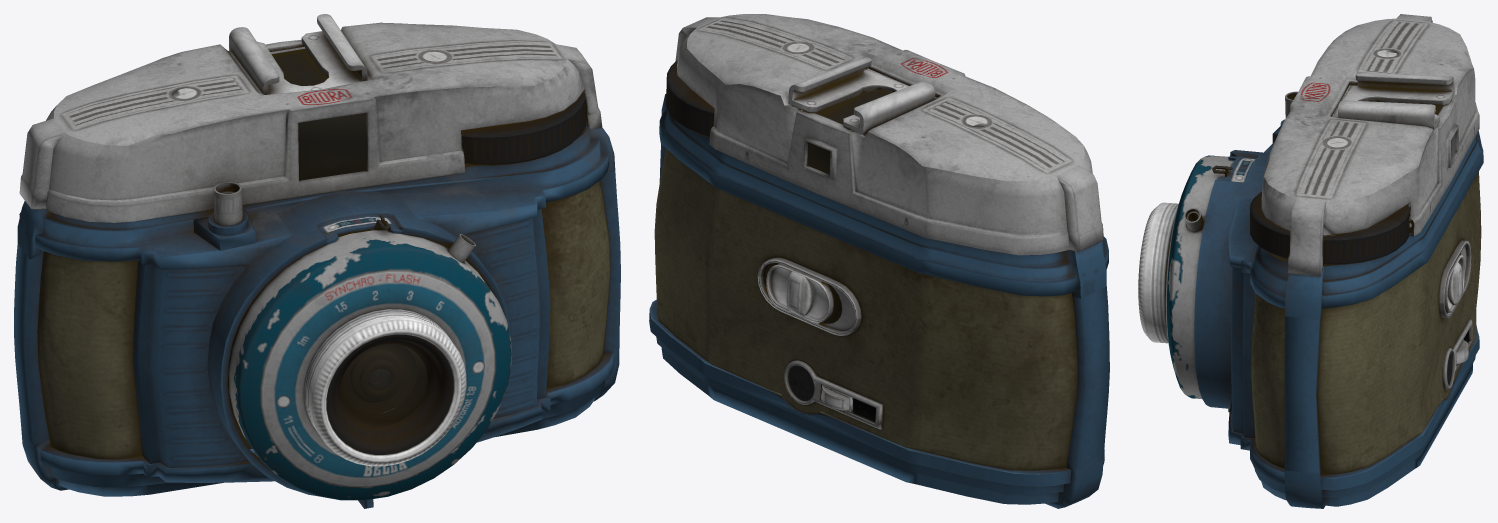
Rendered from camera2.glb.
The picture shows the model from 3 angles, left to right: view 1: azimuth 30°, elevation 25°; view 2: azimuth 150°, elevation 25°; view 3: azimuth 270°, elevation 25°; orthographic projection. The views are drawn at different scales.
Visible parts, largest first — view 1: Low_Midden_low, Low_Top_low, Low_Lens_4_low, Low_Midden_2_low, Low_Lens_2_low, Low_Lens_3_low, Low_Lens_1_low, Low_Cube_low2, Low_Detail_Top_low, Low_Wheel_low, pCube1, Low_Detail_3_low; view 2: Low_Midden_2_low, Low_Top_low, Low_Midden_low, Low_Detail_Top_low, Low_Detail_4_low, Low_Detail_7_low, Low_Detail_8_low, Low_Wheel_low, Low_Cube_low2, Low_Detail_5_low; view 3: Low_Midden_low, Low_Top_low, Low_Midden_2_low, Low_Lens_4_low, Low_Detail_Top_low, Low_Wheel_low, Low_Lens_3_low, Low_Detail_8_low, Low_Detail_4_low, Low_Detail_7_low.
Part boxes in pixels (<box>): Low_Midden_low: <box>14,125,620,508</box>; Low_Top_low: <box>19,22,602,222</box>; Low_Lens_4_low: <box>227,230,511,500</box>; Low_Midden_2_low: <box>37,181,610,459</box>; Low_Lens_2_low: <box>326,334,453,454</box>; Low_Lens_3_low: <box>304,309,466,466</box>; Low_Lens_1_low: <box>339,344,427,426</box>; Low_Cube_low2: <box>271,48,367,180</box>; Low_Detail_Top_low: <box>229,14,367,94</box>; Low_Wheel_low: <box>461,91,586,165</box>; pCube1: <box>298,113,367,180</box>; Low_Detail_3_low: <box>213,181,242,225</box>; Low_Midden_2_low: <box>654,148,1077,470</box>; Low_Top_low: <box>675,14,1103,255</box>; Low_Midden_low: <box>649,94,1109,508</box>; Low_Detail_Top_low: <box>788,57,936,134</box>; Low_Detail_4_low: <box>766,263,833,322</box>; Low_Detail_7_low: <box>784,360,883,429</box>; Low_Detail_8_low: <box>757,257,861,335</box>; Low_Wheel_low: <box>666,60,714,137</box>; Low_Cube_low2: <box>807,89,893,174</box>; Low_Detail_5_low: <box>821,384,852,412</box>; Low_Midden_low: <box>1194,119,1483,508</box>; Low_Top_low: <box>1261,14,1479,276</box>; Low_Midden_2_low: <box>1251,171,1481,474</box>; Low_Lens_4_low: <box>1165,155,1234,398</box>; Low_Detail_Top_low: <box>1331,72,1454,130</box>; Low_Wheel_low: <box>1250,191,1409,264</box>; Low_Lens_3_low: <box>1138,202,1188,343</box>; Low_Detail_8_low: <box>1439,240,1471,318</box>; Low_Detail_4_low: <box>1444,255,1464,312</box>; Low_Detail_7_low: <box>1442,319,1472,390</box>.
Bounding box in the file's own units: 0.8895 × 0.6212 × 0.5782.
2 materials, 1 textured.
